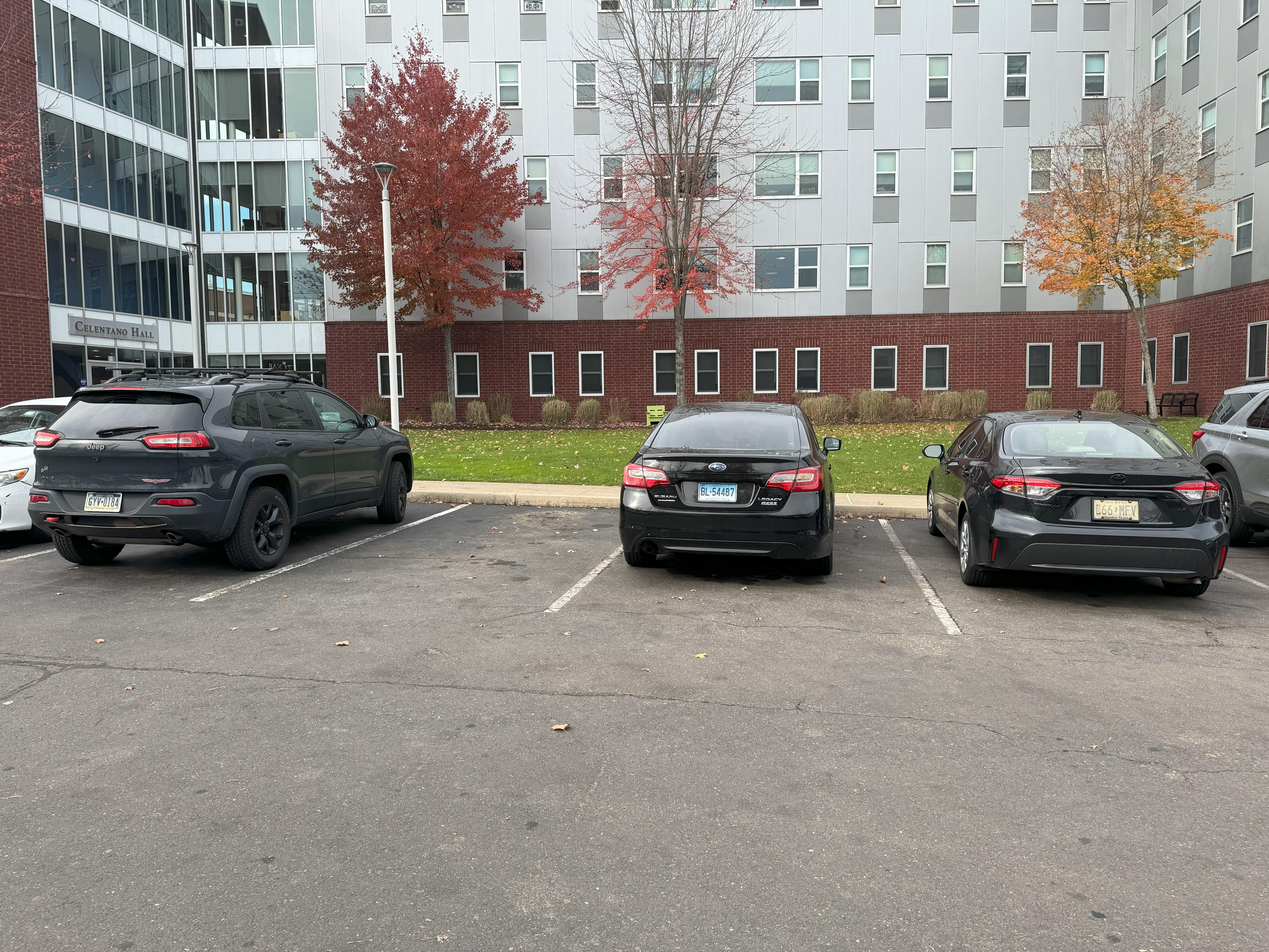empty: (416, 503, 597, 600)
occupied: (25, 352, 411, 613), (898, 398, 1248, 613), (614, 394, 836, 599)
